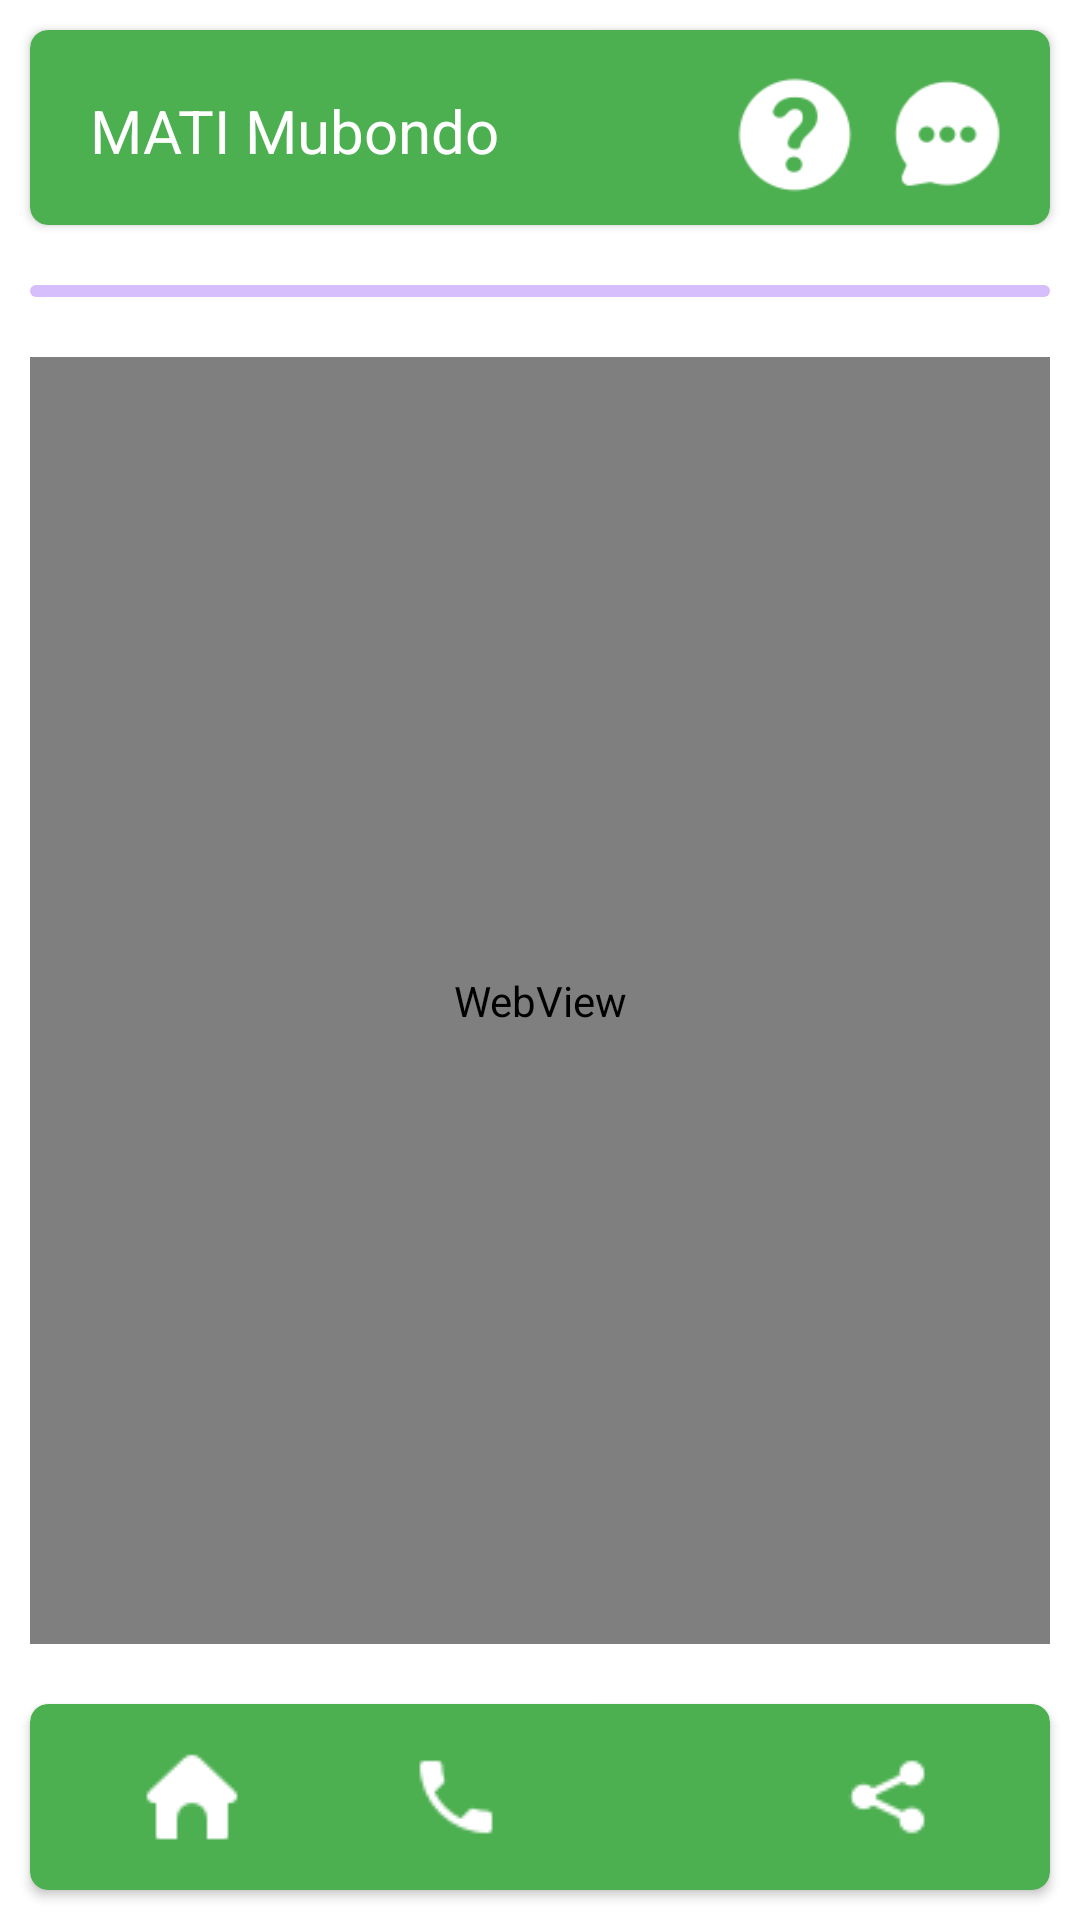

Icons on this 1080px x 1920px Android screen, each with its box as bbox(x1, y1, x2, y2):
calls: bbox(419, 1760, 493, 1834)
homes: bbox(146, 1754, 238, 1840)
mchat: bbox(895, 81, 1000, 186)
shares: bbox(850, 1760, 925, 1834)
